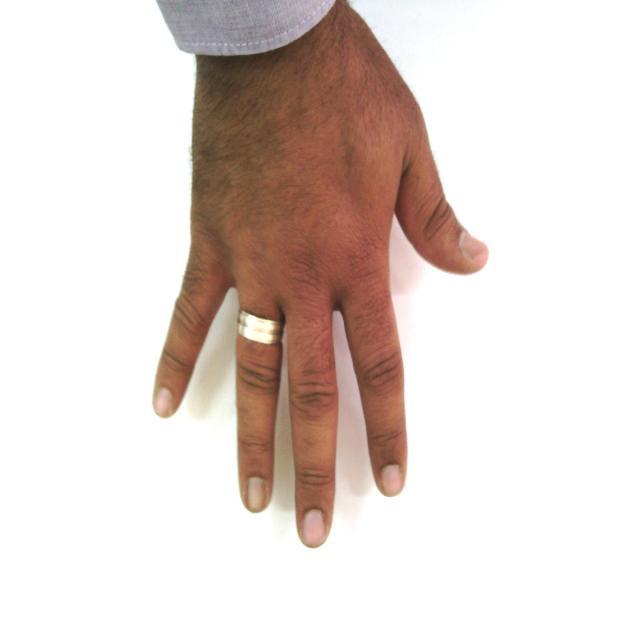Fingernail: (303, 509, 325, 547), (461, 232, 486, 263), (381, 464, 402, 496), (247, 477, 266, 512), (155, 388, 173, 416)
